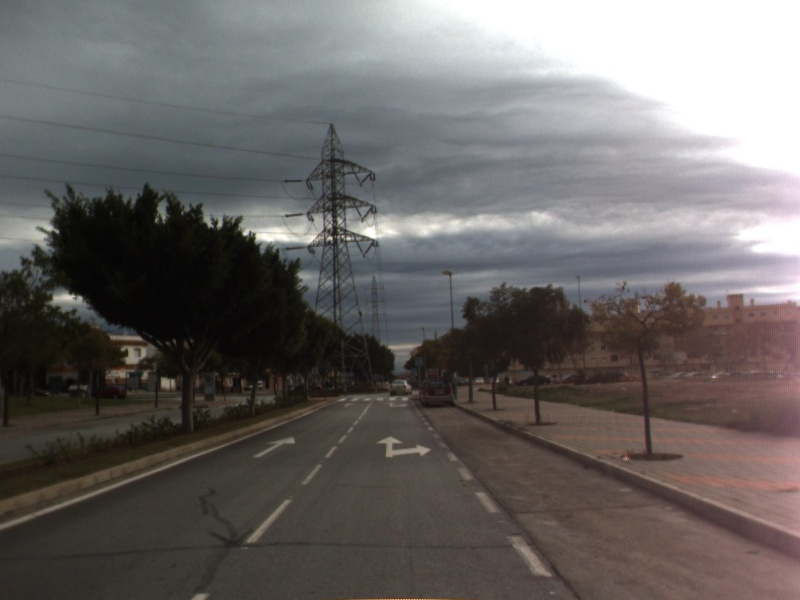STRAIGHT: (250, 433, 297, 459)
STRAIGHT_RIGHT: (374, 434, 433, 459)
